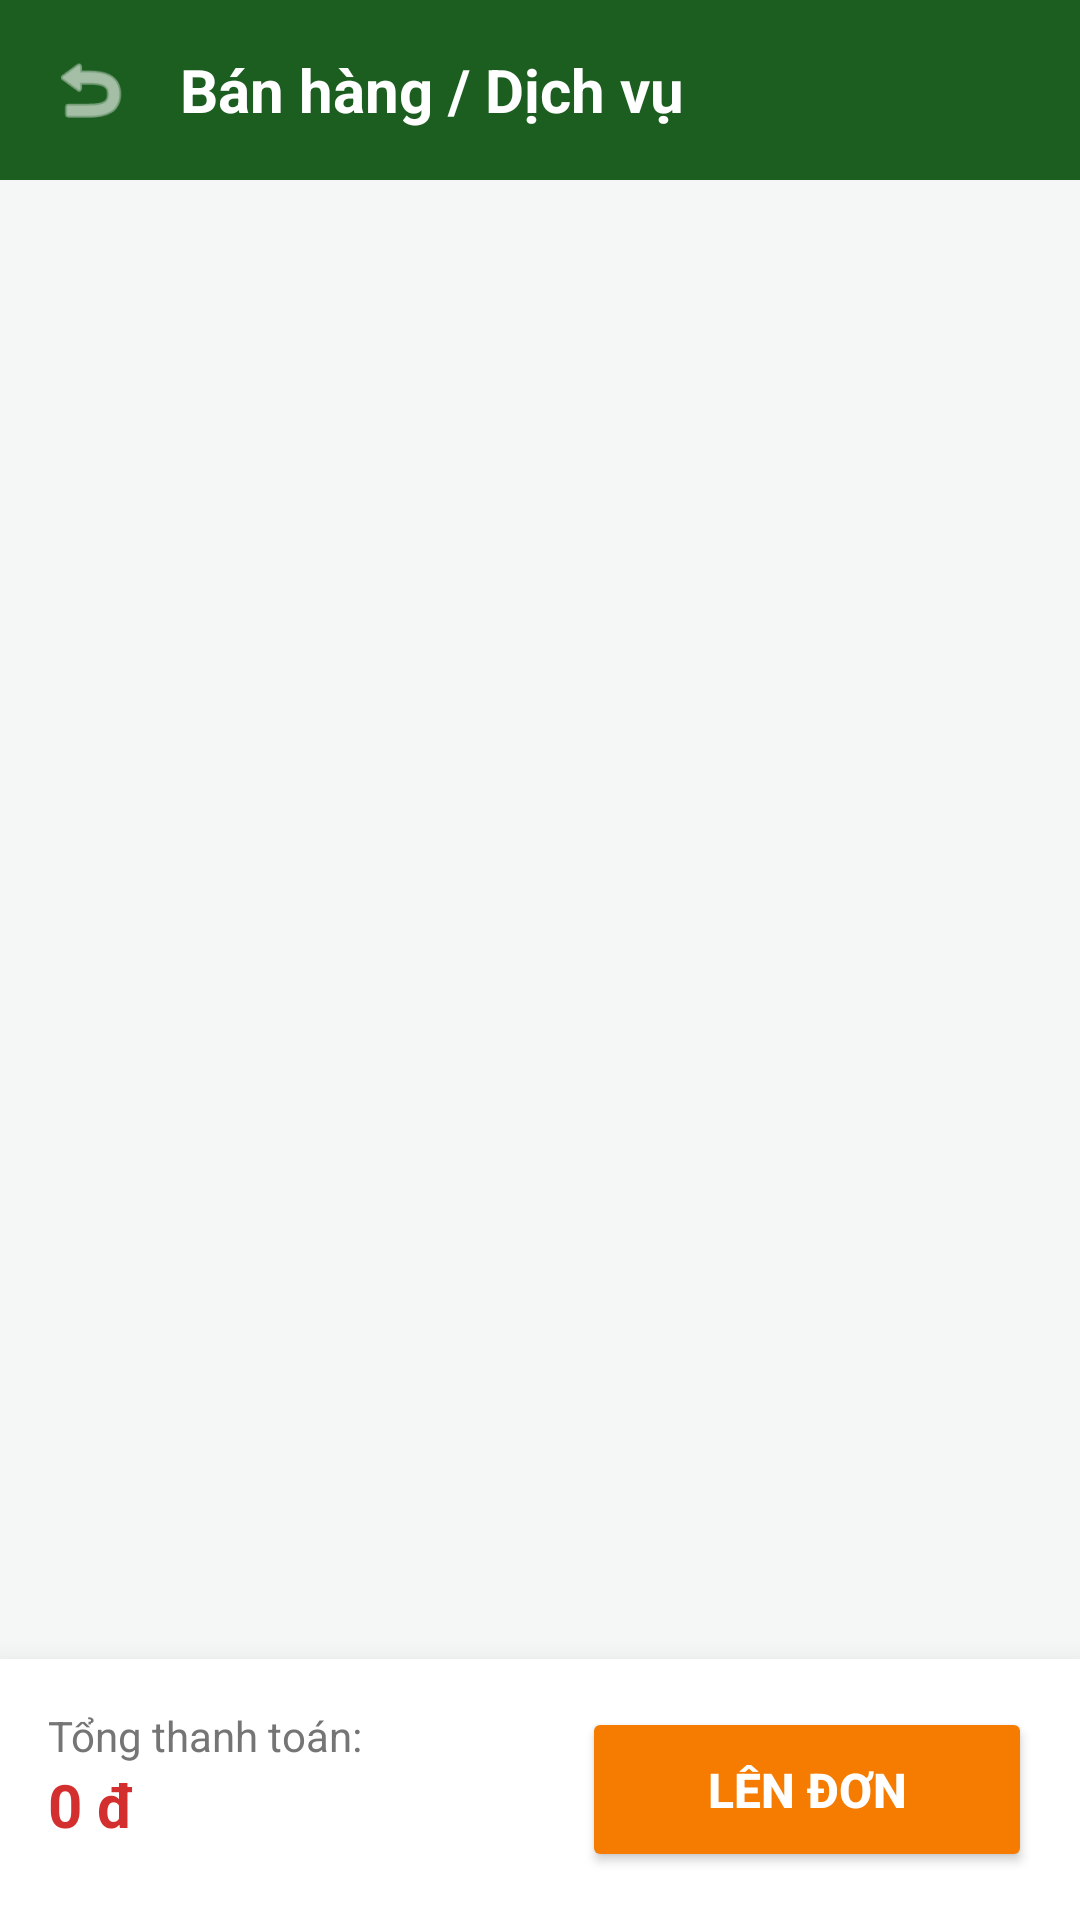

Icon bounding boxes for this 1080 x 1920 phone screenshot, format bbox=(x1, y1, x2, y2):
revert: bbox=(61, 63, 121, 118)
